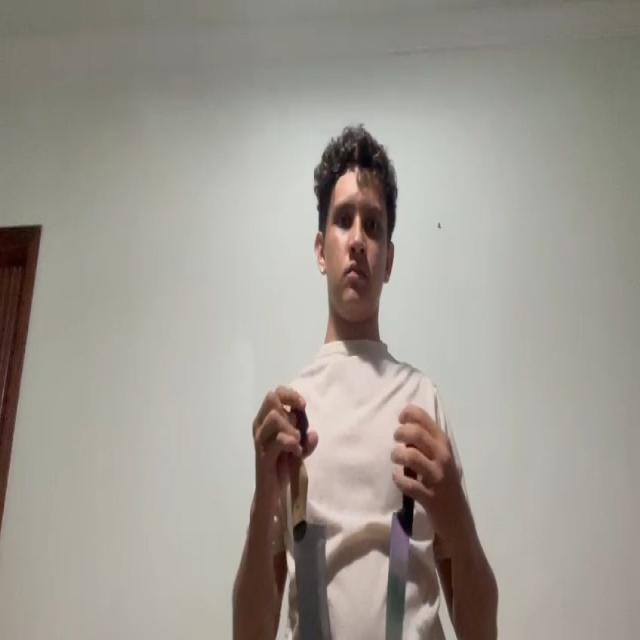knife: (293, 519, 330, 640), (382, 512, 412, 640)
